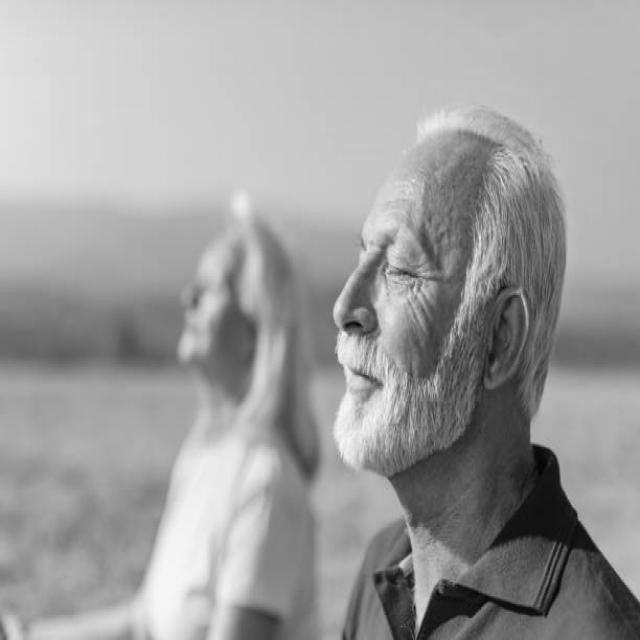real: (335, 126, 548, 469), (356, 236, 446, 297)
